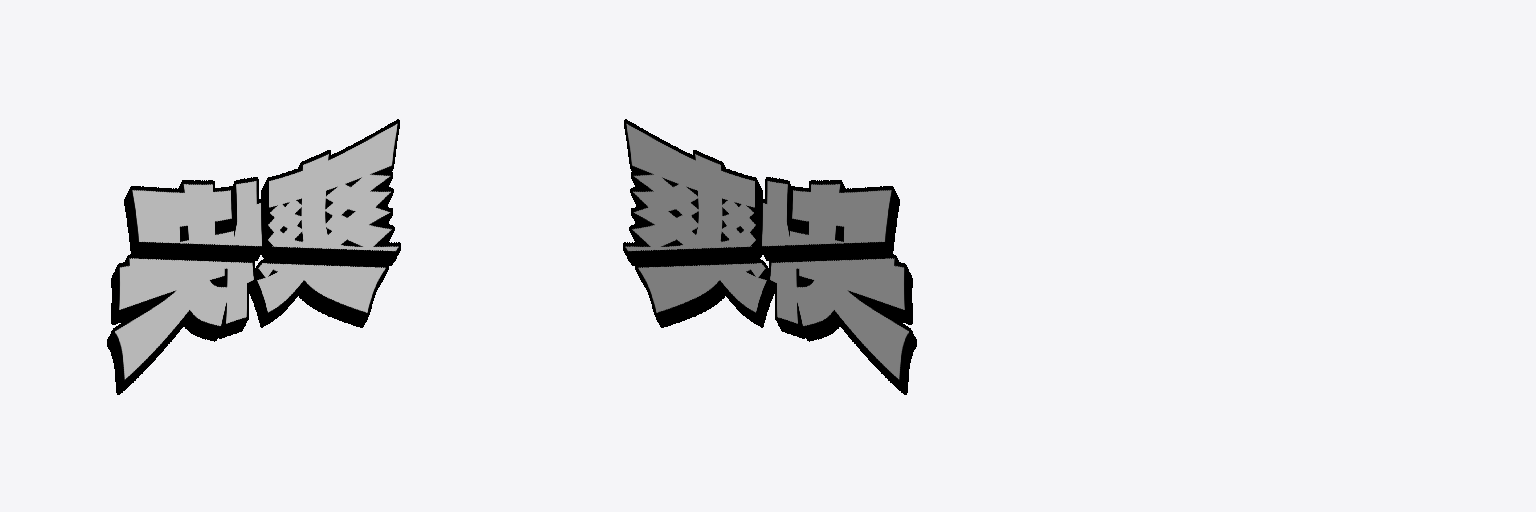
The picture shows the model from 3 angles: view 1: azimuth 30°, elevation 25°; view 2: azimuth 150°, elevation 25°; view 3: azimuth 270°, elevation 25°; orthographic projection.
Parts seen in each view (by area): view 1: 平面; view 2: 平面; view 3: none.
Part boxes in pixels (x1,y1,x2,y2): 平面: (107,119,400,394); 平面: (623,119,916,394).
Bounding box in the file's own units: 11.82 × 9.68 × 0.
1 materials, 1 textured.